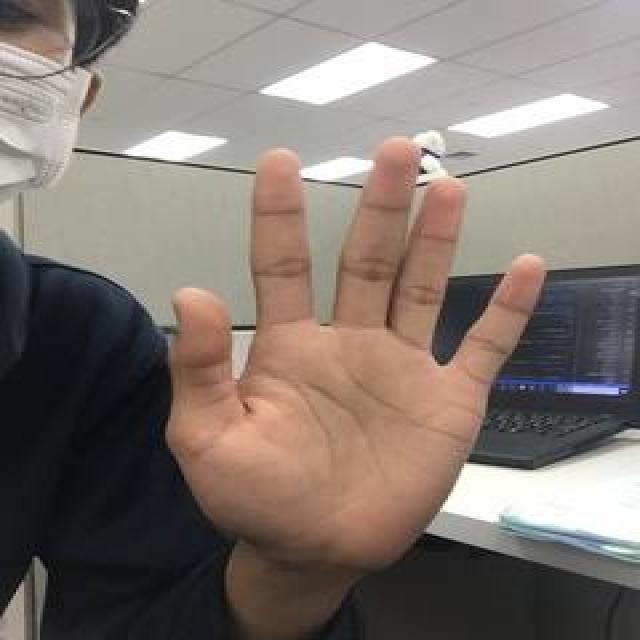hand: (157, 139, 547, 563)
